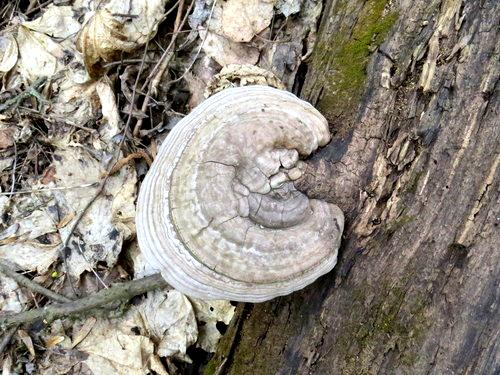Ganoderma - Fruit Body: (135, 86, 343, 305)
